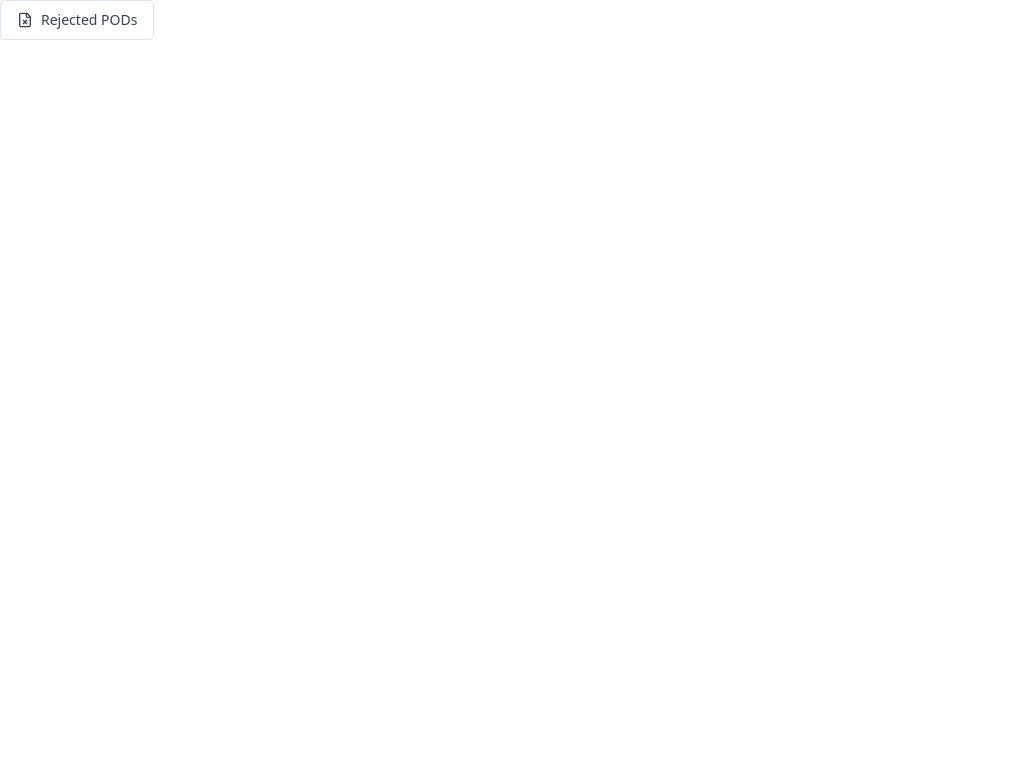
Test: rejected POD history › returns to the preceding page after deleting its last report
The width and height of the screenshot is (1024, 768).
Click the button "Rejected PODs": x=77, y=20 x1=0 y1=0 x2=154 y2=40
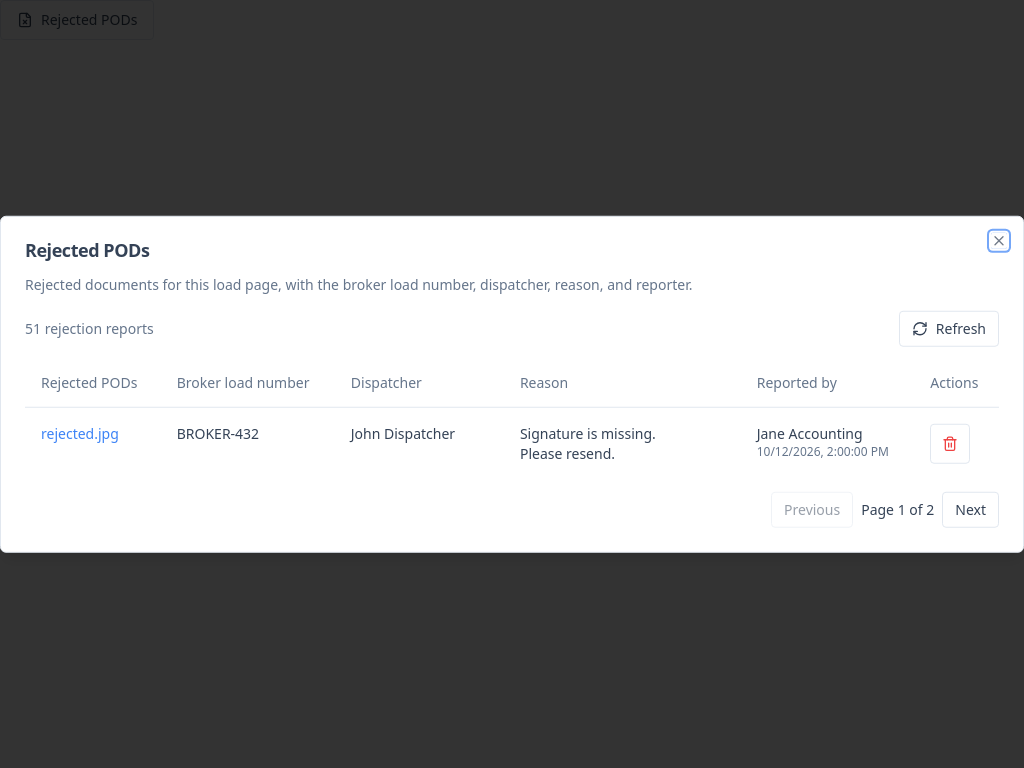
expect the text "BROKER-432" is shown: met, box x1=161 y1=407 x2=335 y2=479
Click the button "Next": x=971, y=509 x1=942 y1=491 x2=999 y2=527
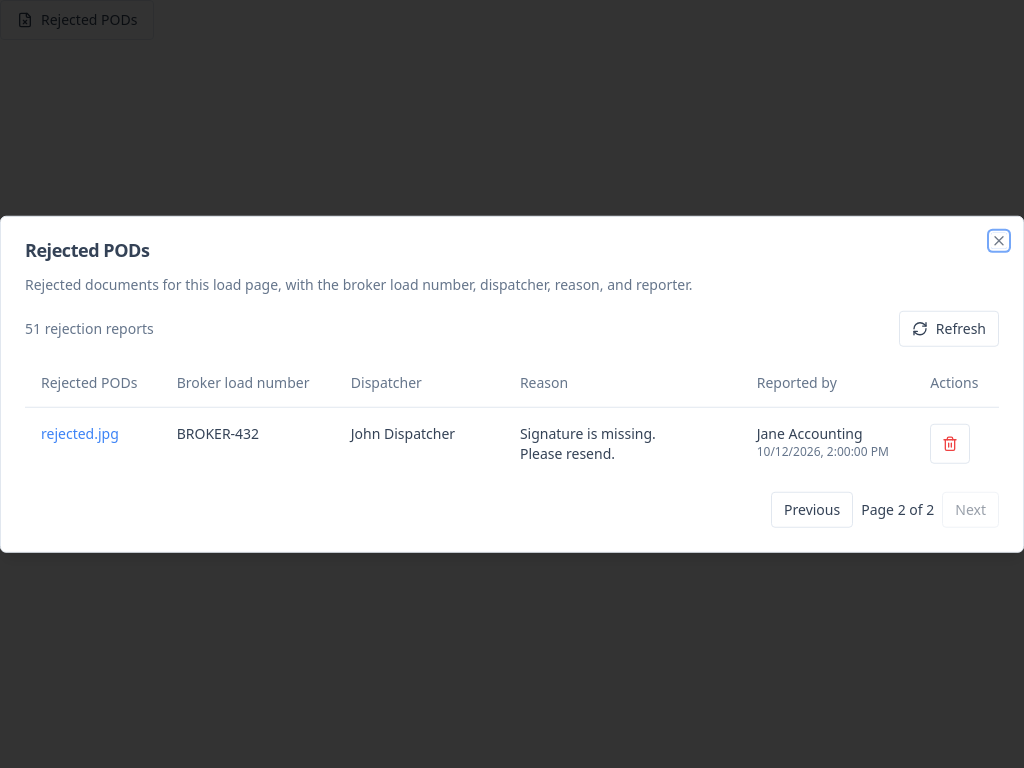
Click the button named "Delete rejection for load BROKER-432": x=950, y=443 x1=930 y1=423 x2=970 y2=463
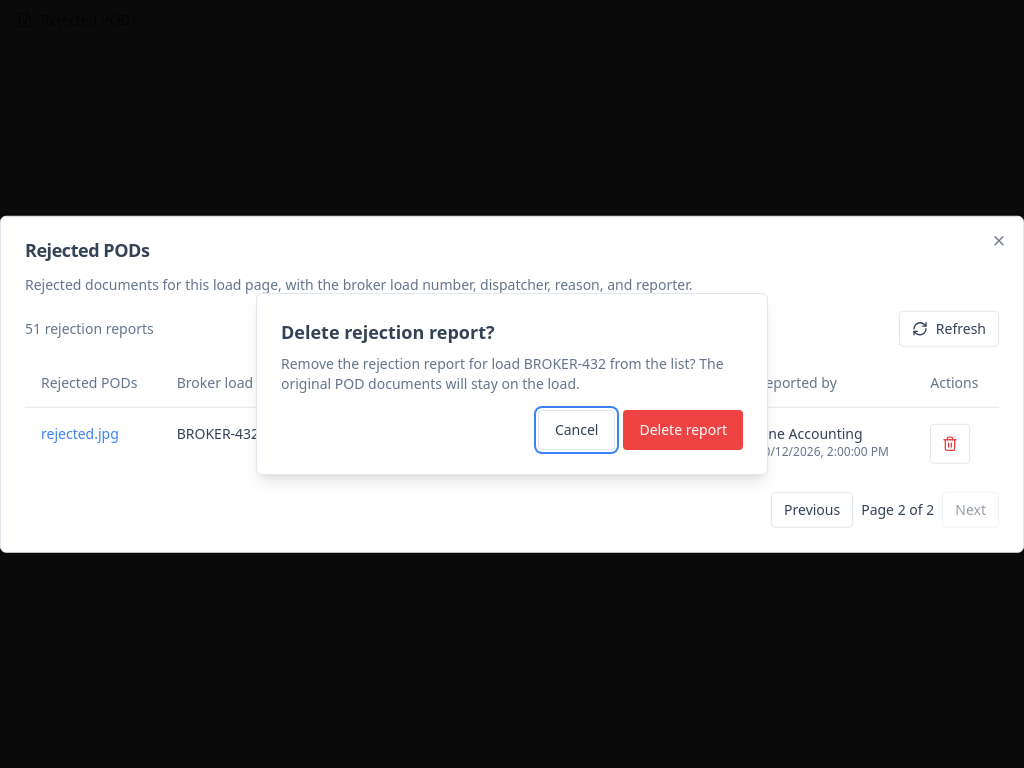
Click the button "Delete report": x=683, y=430 x1=624 y1=410 x2=743 y2=450
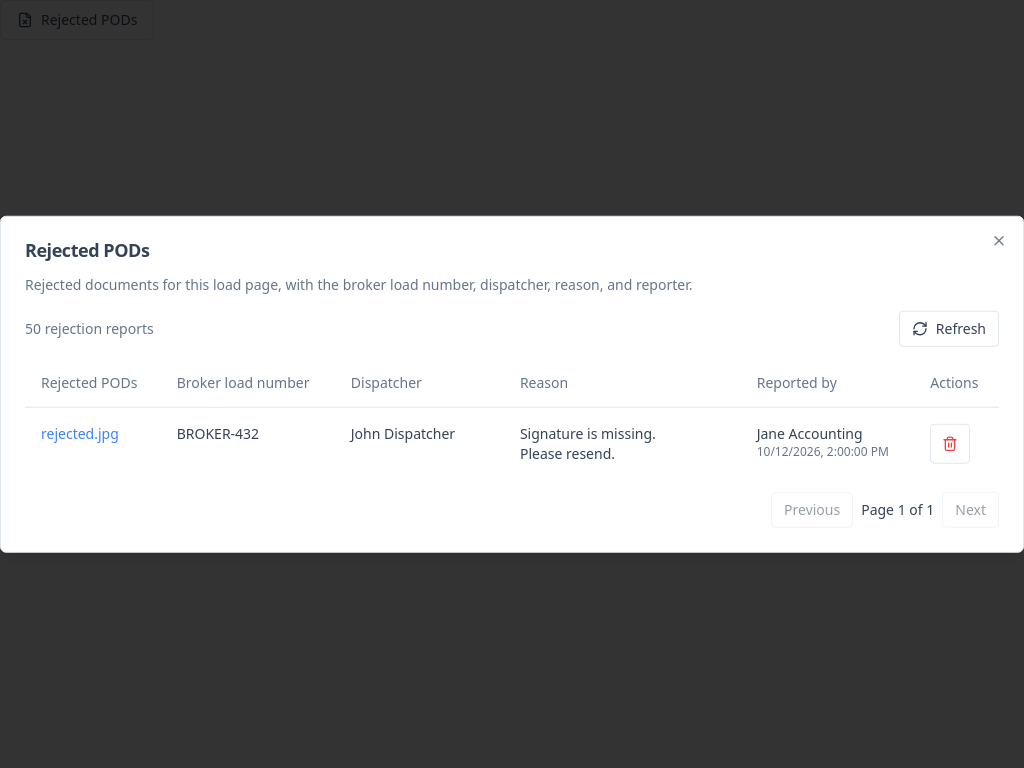
expect the text "Page 1 of 1" is shown: met, box x1=861 y1=499 x2=934 y2=519
